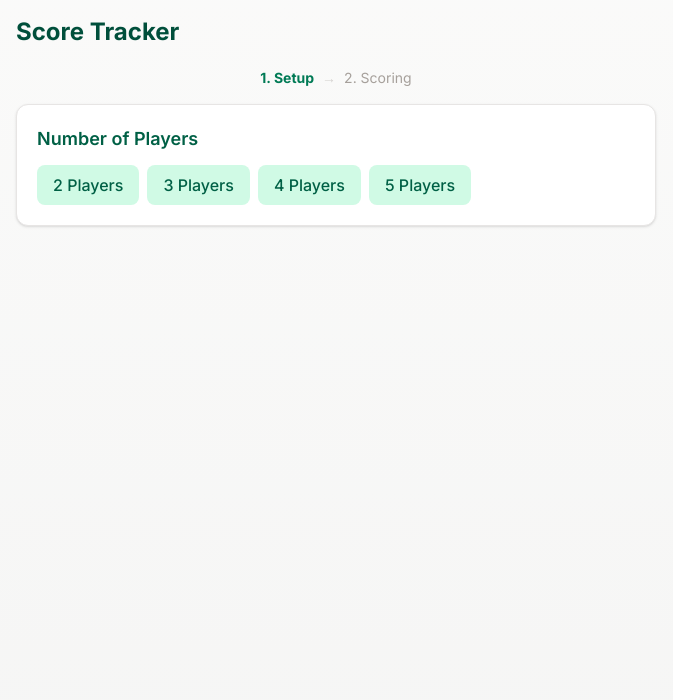
ScoreTracker › player setup › allows going back to edit player setup
Click the button "2 Players": (88, 185) [37, 165, 139, 205]
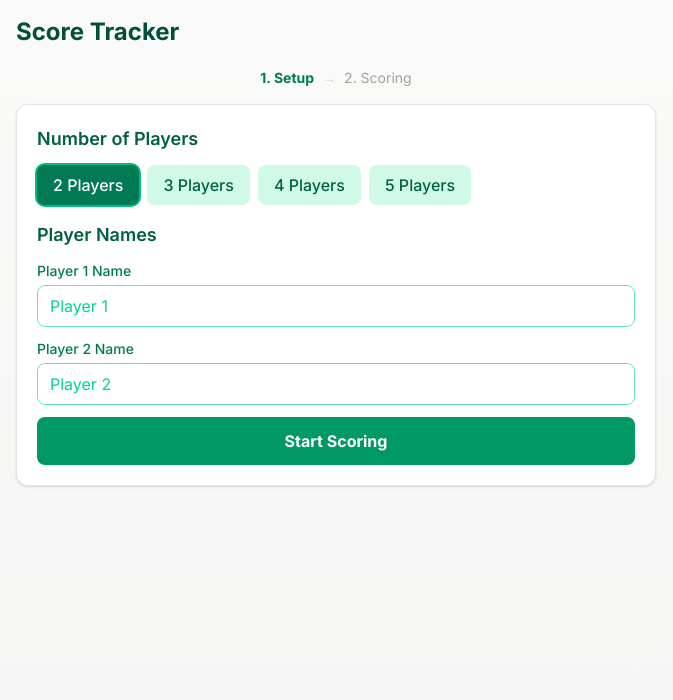
In the field labelled "Player 1 Name": (336, 306) [37, 285, 635, 327], type "Alice"
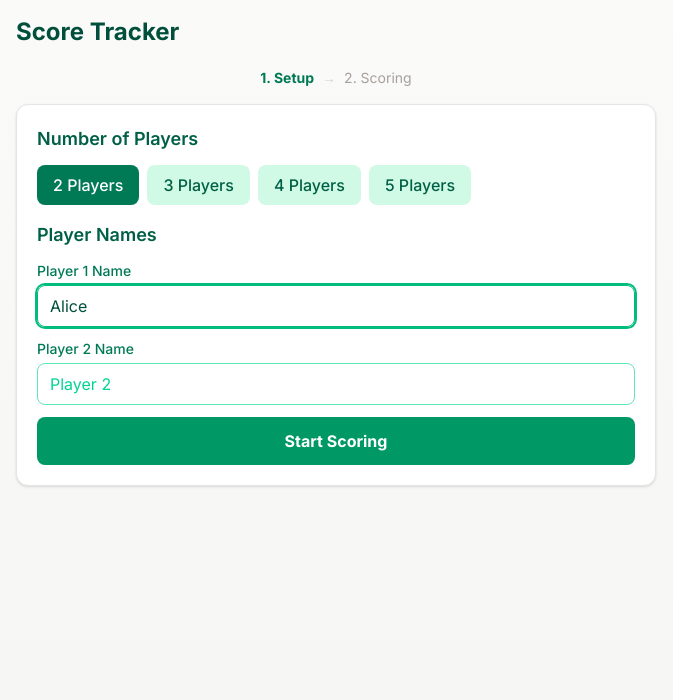
In the field labelled "Player 2 Name": (336, 384) [37, 363, 635, 405], type "Bob"
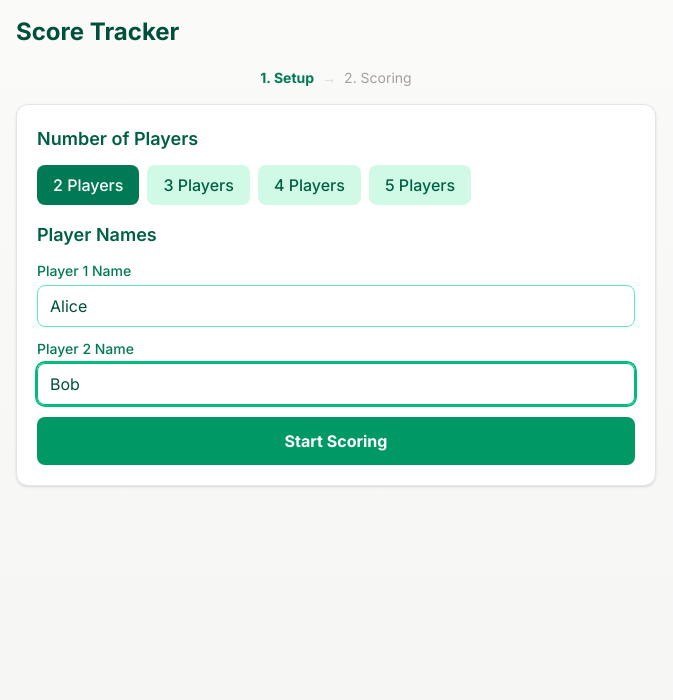
Click the button "Start Scoring": (336, 441) [37, 417, 635, 465]
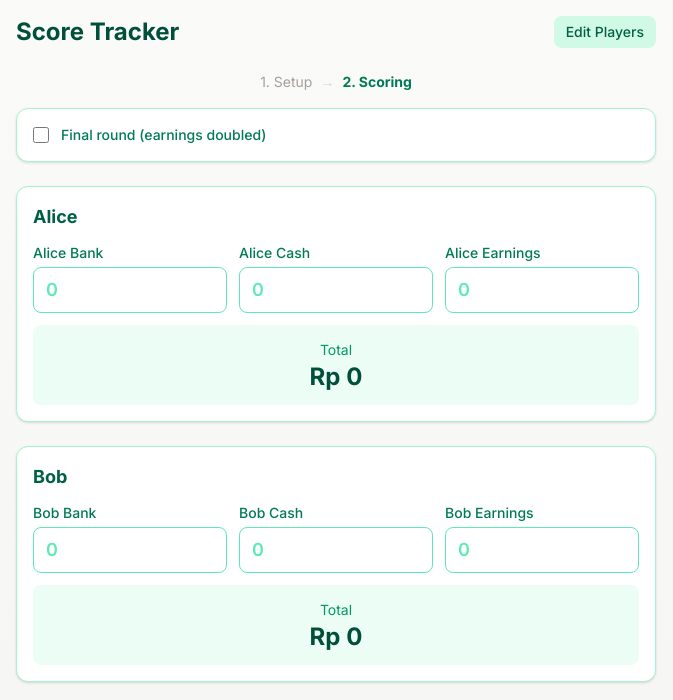
Click the button "Edit Players": (605, 32) [554, 16, 656, 48]
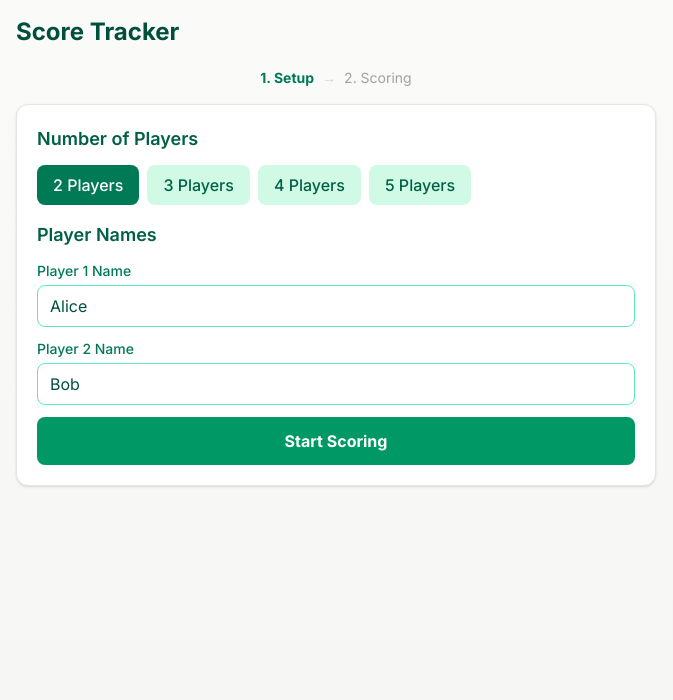
Check: the number of fields labelled "Player 1 Name" is 2, box [37, 285, 635, 327]; [37, 363, 635, 405]
